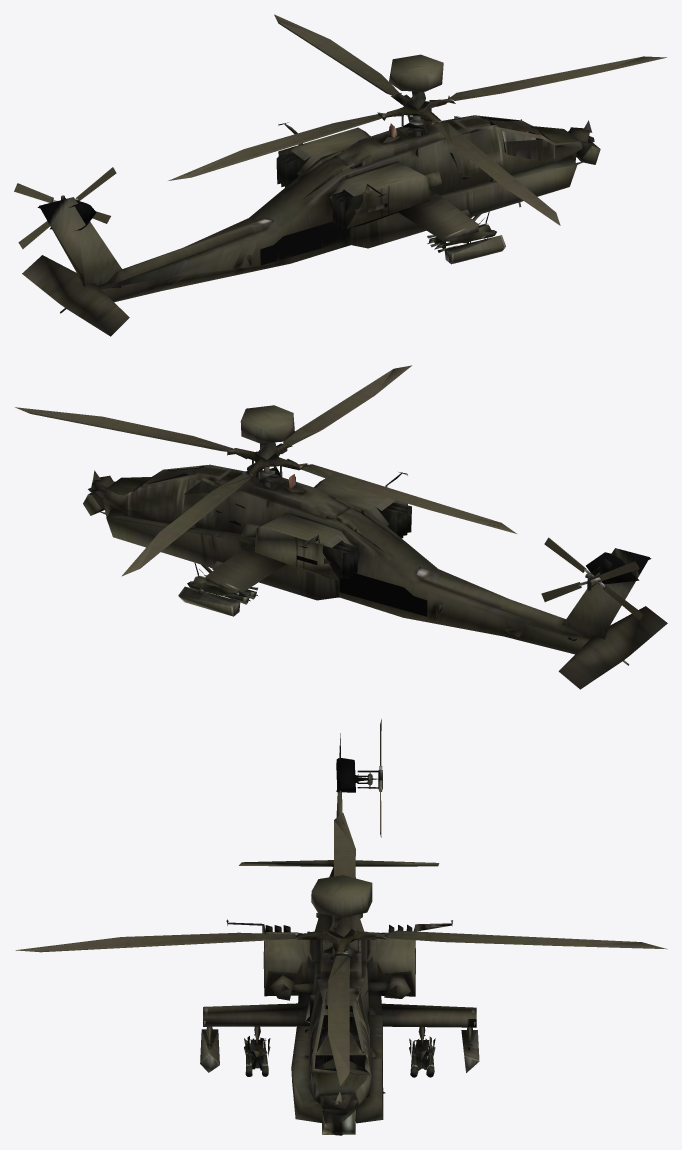
File: apache_lo.glb
The picture shows the model from 3 angles, top to bottom: view 1: azimuth 30°, elevation 25°; view 2: azimuth 150°, elevation 25°; view 3: azimuth 270°, elevation 25°; orthographic projection. The views are drawn at different scales.
Parts seen in each view (by area): view 1: g_apache_hull, g_apache_rotor, g_apache_rotor2; view 2: g_apache_hull, g_apache_rotor, g_apache_rotor2; view 3: g_apache_hull, g_apache_rotor.
Part boxes in pixels (box(x1,y1,x2,y2)): g_apache_hull: box(22, 54, 600, 336); g_apache_rotor: box(168, 14, 666, 225); g_apache_rotor2: box(14, 167, 116, 248); g_apache_hull: box(83, 405, 667, 689); g_apache_rotor: box(15, 365, 516, 576); g_apache_rotor2: box(541, 537, 643, 619); g_apache_hull: box(200, 733, 479, 1135); g_apache_rotor: box(15, 813, 667, 1085).
Bounding box in the file's own units: 17.7 × 4.48 × 13.86.
Materials: 3 (3 with a texture image).
